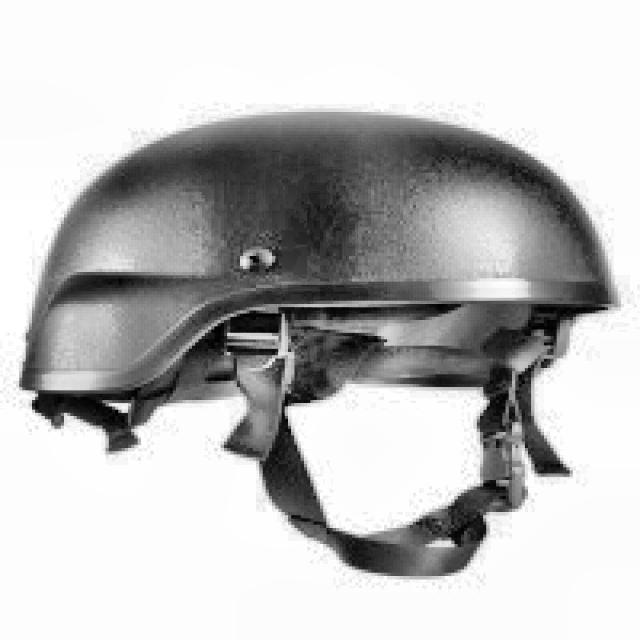Helmet: (32, 87, 624, 602)
